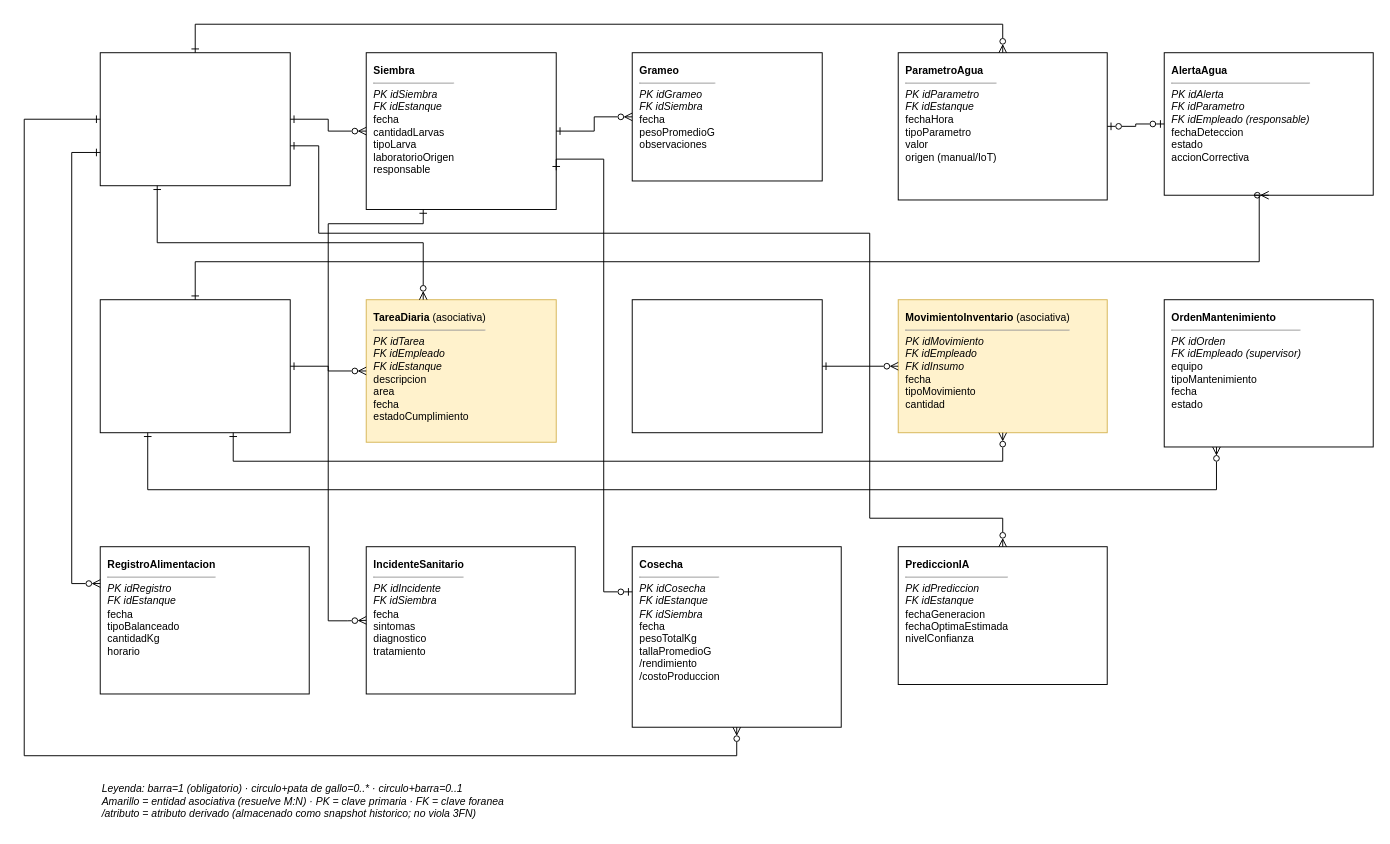
The diagram is 1390 pixels wide and 844 high, and some of its shapes have lost their labels. The centre of each missing label's shape, as x and y in pixels:
Empleado PK idEmpleado (cedula) nombre cargo rolSistema fechaIngreso: (x=194, y=366)
Estanque PK idEstanque nombre superficieHa capacidadMaxLarvas estadoActual: (x=194, y=119)
Insumo PK idInsumo nombre tipo stockActual stockMinimo: (x=726, y=366)
